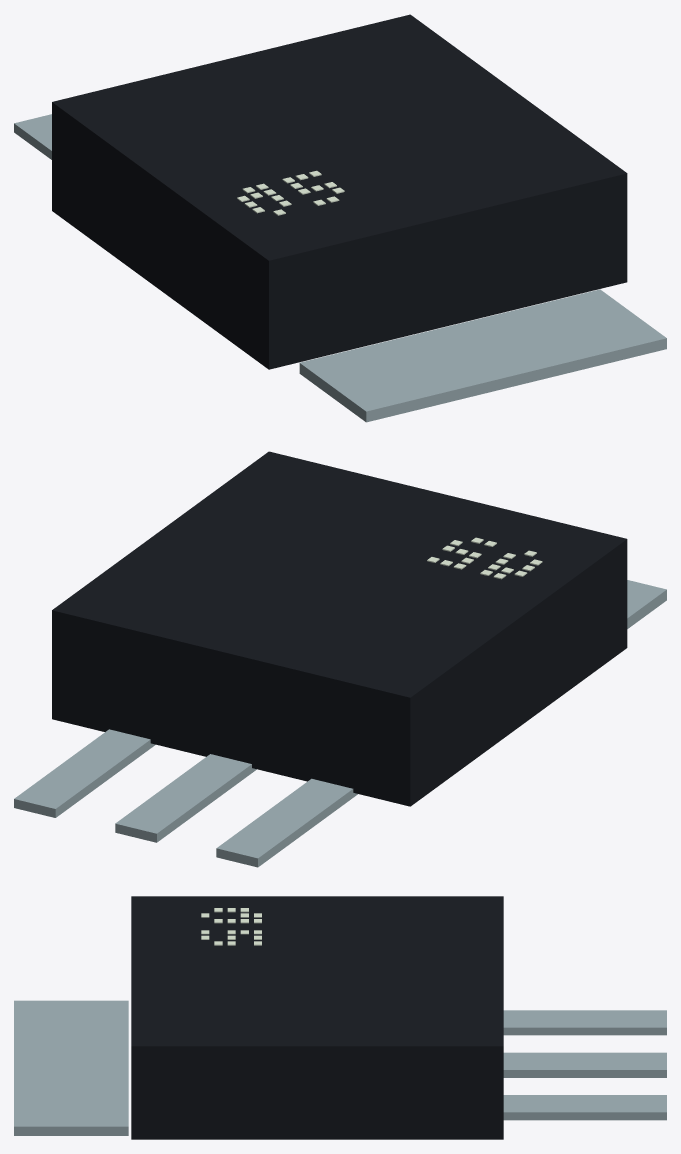
Rendered from 10_L97_Q2_MOSFET.fbx.
3 views of the same model, one above another, from view 1: azimuth 30°, elevation 25°; view 2: azimuth 150°, elevation 25°; view 3: azimuth 270°, elevation 25° (orthographic). The views are drawn at different scales.
Parts seen in each view (by area): view 1: Q2_mold, Q2_heat_tab, Q2_leg_0; view 2: Q2_mold, Q2_leg_0, Q2_leg_1, Q2_leg_2, Q2_heat_tab; view 3: Q2_mold, Q2_heat_tab, Q2_leg_0, Q2_leg_1, Q2_leg_2.
Boxes of the visible parts, <box> form: Q2_mold: <box>52,14,627,369</box>; Q2_heat_tab: <box>299,289,666,422</box>; Q2_leg_0: <box>14,114,51,159</box>; Q2_mold: <box>52,451,627,806</box>; Q2_leg_0: <box>216,778,357,867</box>; Q2_leg_1: <box>115,754,256,842</box>; Q2_leg_2: <box>14,729,155,817</box>; Q2_heat_tab: <box>627,580,666,628</box>; Q2_mold: <box>131,896,503,1139</box>; Q2_heat_tab: <box>14,1000,128,1135</box>; Q2_leg_0: <box>503,1010,666,1035</box>; Q2_leg_1: <box>503,1052,666,1077</box>; Q2_leg_2: <box>503,1095,666,1120</box>.
Bounding box in the file's own units: 0.0062 × 0.00203 × 0.0114.
